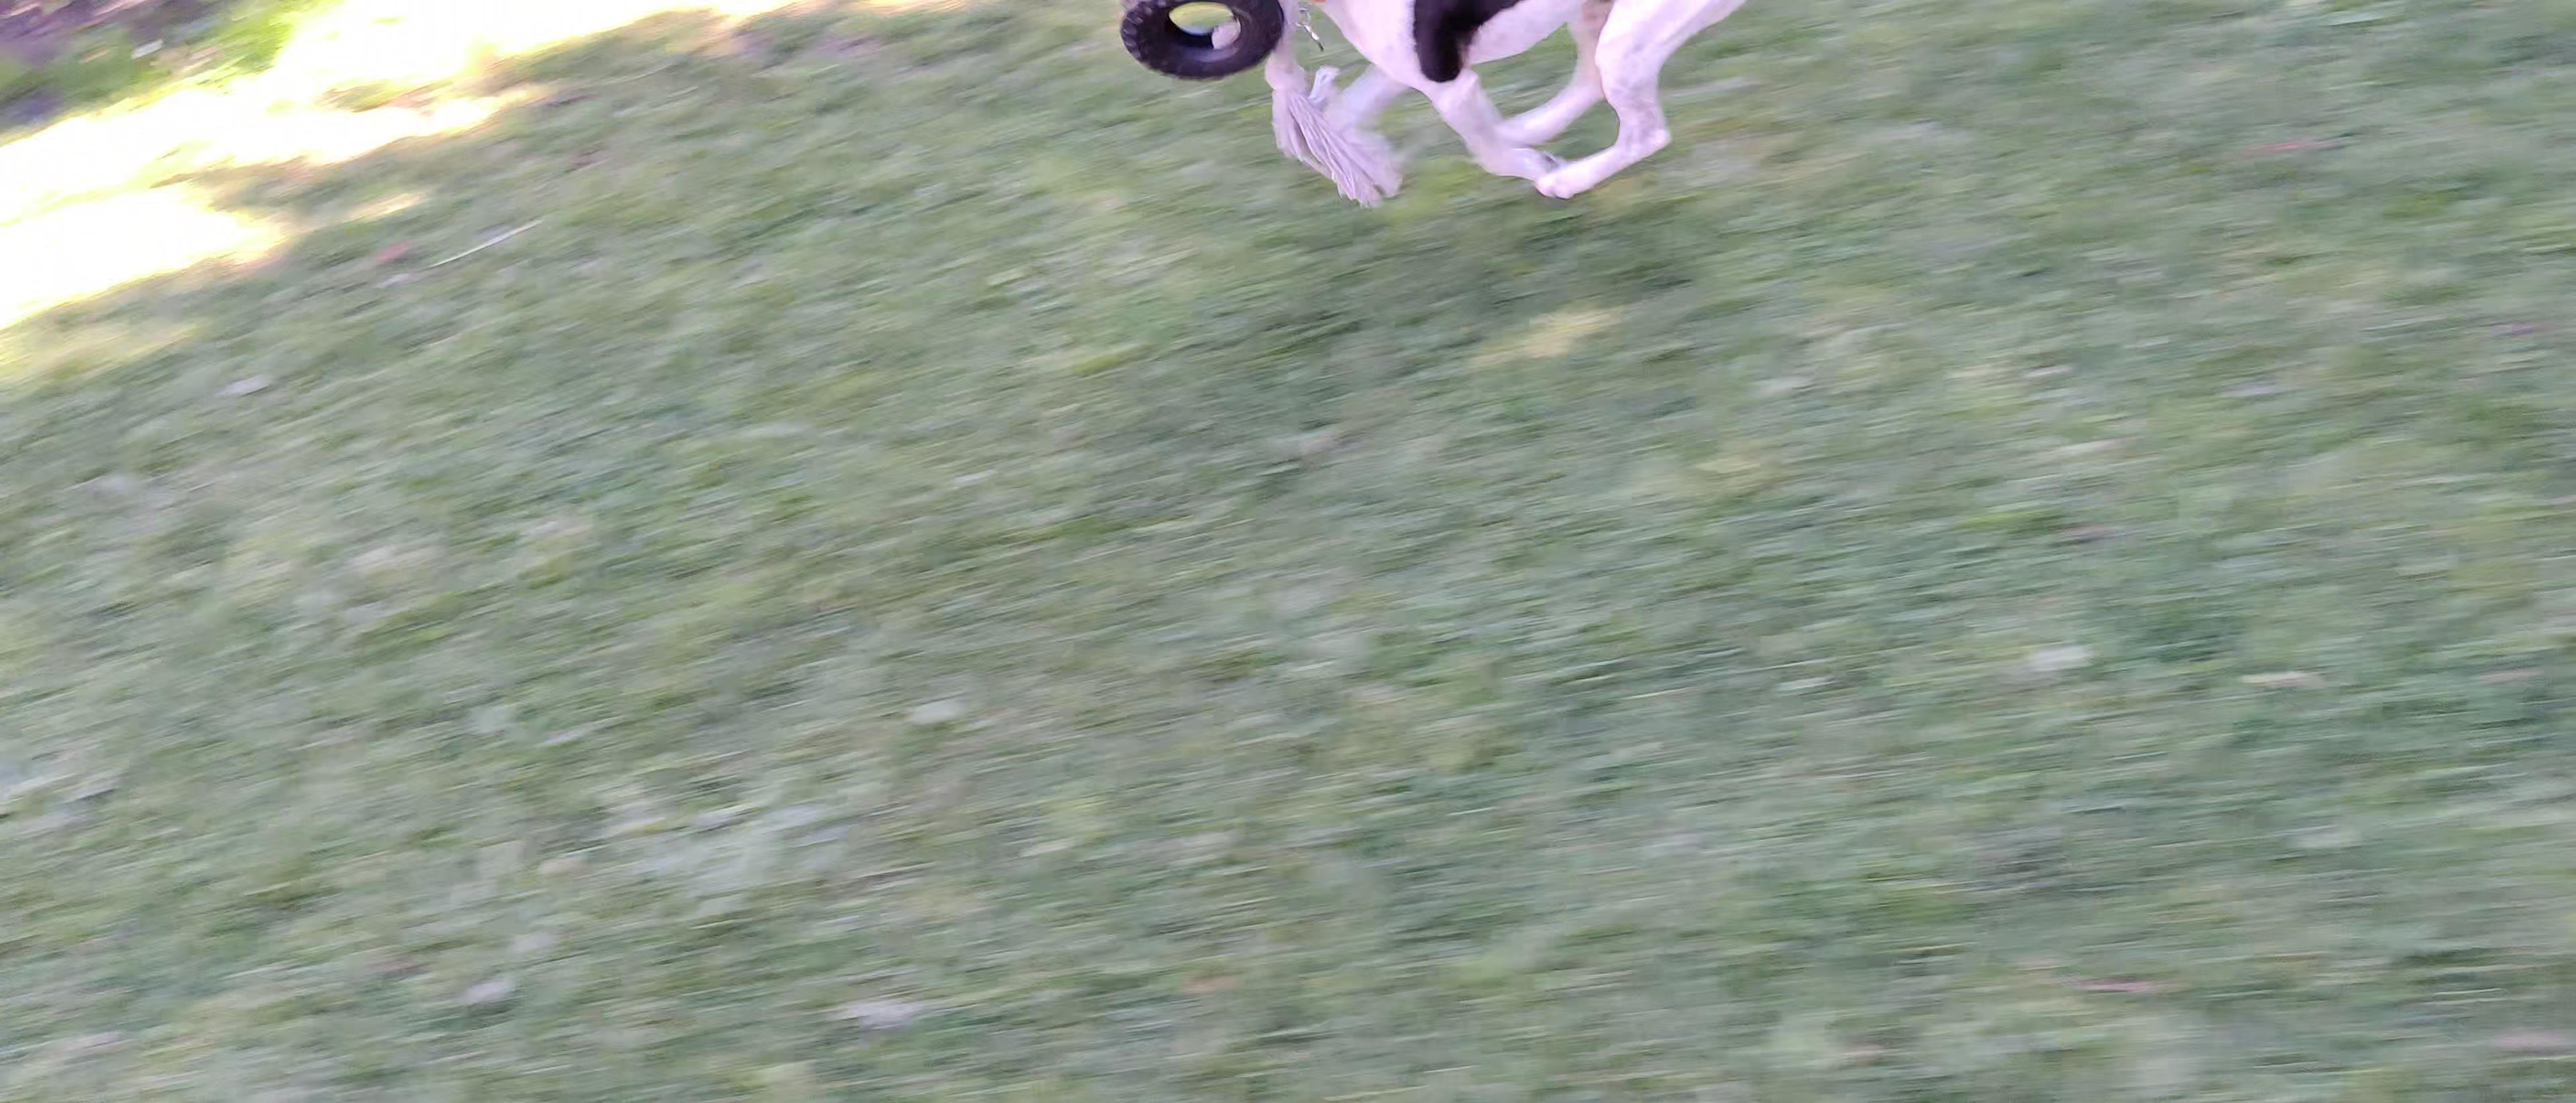Dog: (1234, 0, 1751, 205)
